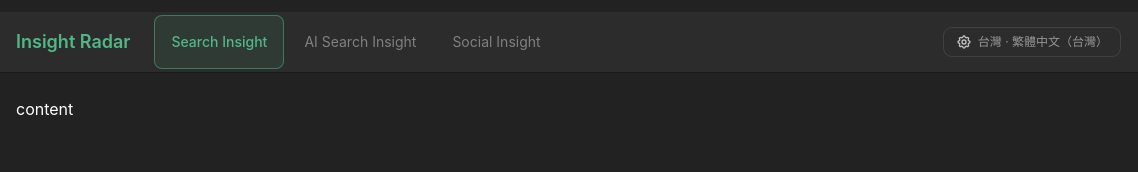
it: TC-58〔nav〕· v4 三線 top-tab 狀態機 (T7.1) › Social Insight is a roadmap tab and surfaces the same 即將推出 notice on click
What coordinates should you click on to do the following:
click the button "Social Insight"
I would click on:
 (496, 42)
Its box is [436,16,557,68].
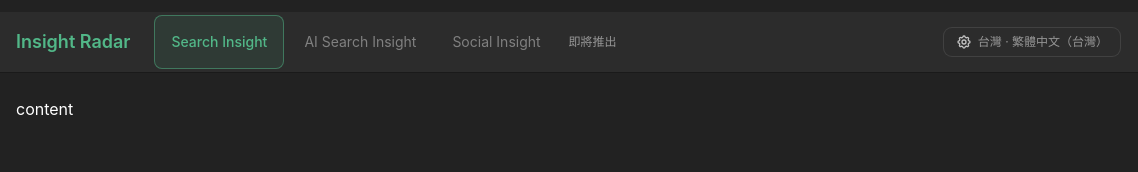
Now the text "即將推出" is shown, box [569,34,617,50]
